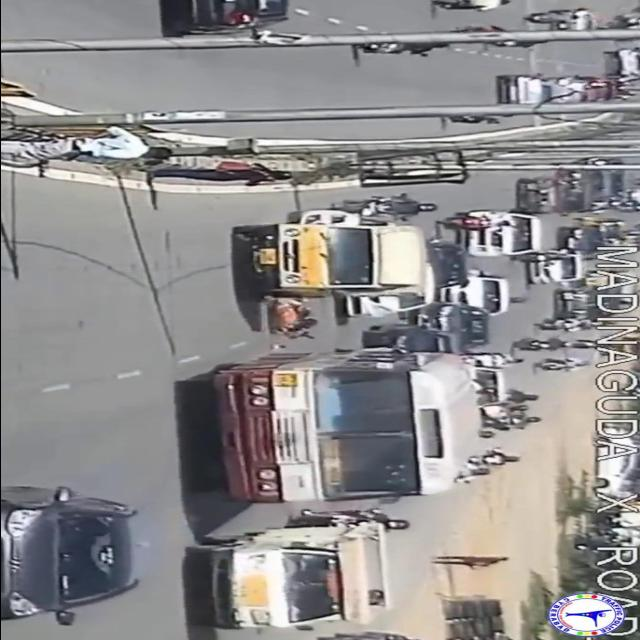accident: (233, 222, 443, 344)
non_accident: (433, 158, 631, 316), (487, 43, 640, 106)
